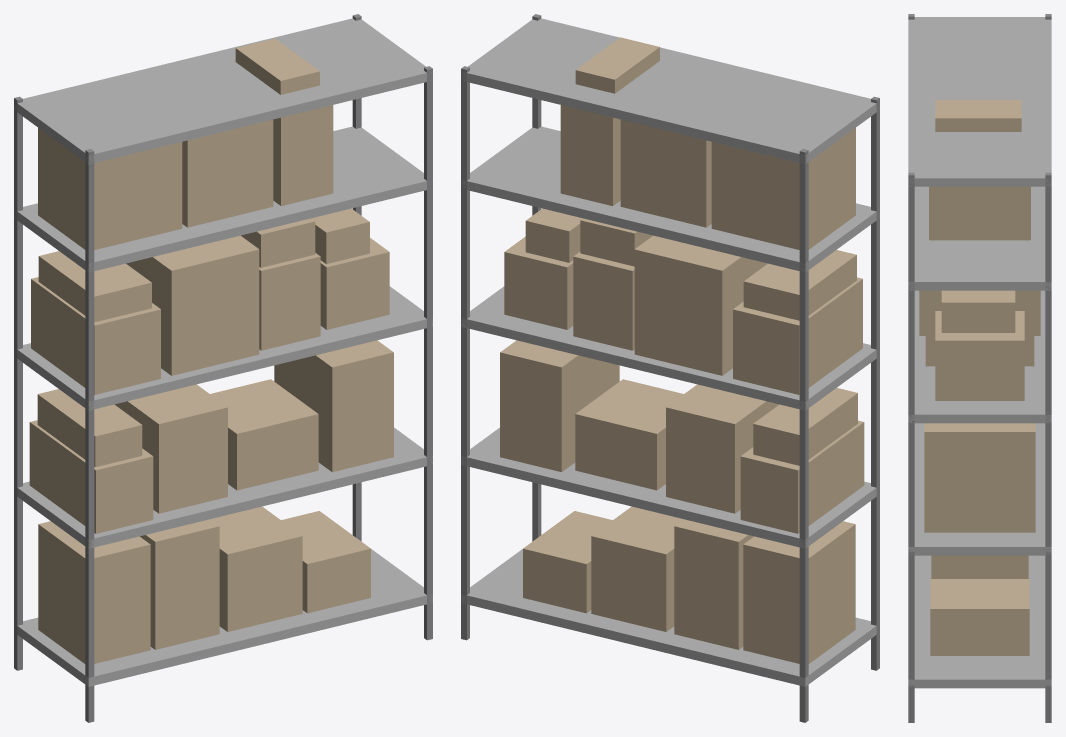
The model's file is stockrack_b.glb.
The picture shows the model from 3 angles, left to right: view 1: azimuth 30°, elevation 25°; view 2: azimuth 150°, elevation 25°; view 3: azimuth 270°, elevation 25°; orthographic projection. The views are drawn at different scales.
Parts seen in each view (by area): view 1: NC_stockrack_b; view 2: NC_stockrack_b; view 3: NC_stockrack_b.
Part boxes in pixels (box(x1,y1,x2,y2)): NC_stockrack_b: box(14, 14, 432, 722); NC_stockrack_b: box(461, 14, 879, 722); NC_stockrack_b: box(908, 14, 1051, 722).
Bounding box in the file's own units: 1.2 × 1.94 × 0.45.
